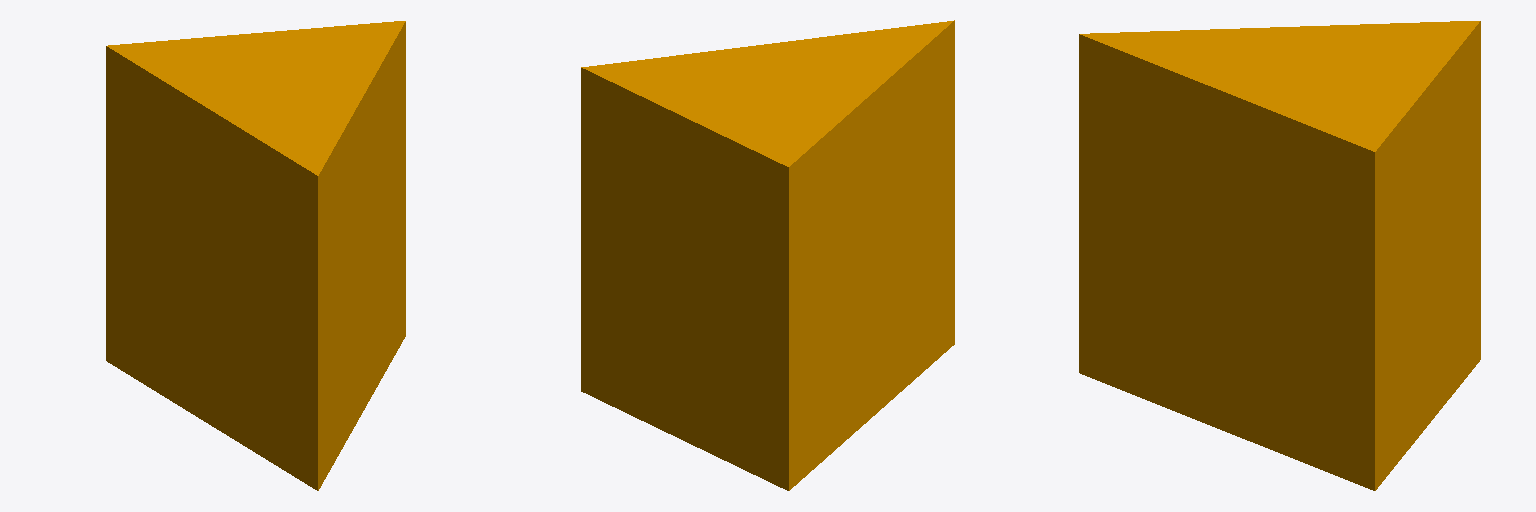
URDF robot description (object):
<?xml version="1.0"?>
<robot name="object">
  <link name="object">
    <visual>
      <origin xyz="0 0 0"/>
      <geometry>
        <mesh filename="meshes/generated/col_096.obj" scale="0.03 0.03 0.03"/>
      </geometry>
    </visual>
    <collision>
      <origin xyz="0 0 0"/>
      <geometry>
        <mesh filename="meshes/generated/col_096.obj" scale="0.03 0.03 0.03"/>
      </geometry>
    </collision>
    <inertial>
      <density value="1000.0"/>
    </inertial>
  </link>
</robot>

--- Facts derived from the render (not from the file) ---
3 views of the same robot in one strip: view 1: azimuth 30°, elevation 25°; view 2: azimuth 150°, elevation 25°; view 3: azimuth 270°, elevation 25° (orthographic).
Robot: object — 1 links, 0 joints (none); root link object; default pose: all joints at 0.
Links seen in each view (by area): view 1: object; view 2: object; view 3: object.
Boxes of the visible links, x1,y1,x2,y2 form: object: (106, 21, 405, 490); object: (581, 20, 954, 490); object: (1079, 21, 1480, 490).
Size in the robot's own frame: 0.05 by 0.0645 by 0.06 metres.
1 mesh visuals loaded from 1 distinct referenced files (1 OBJ).
